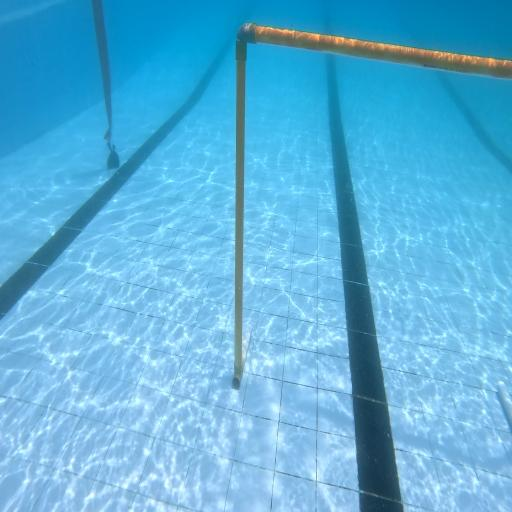gate: (233, 24, 512, 425)
